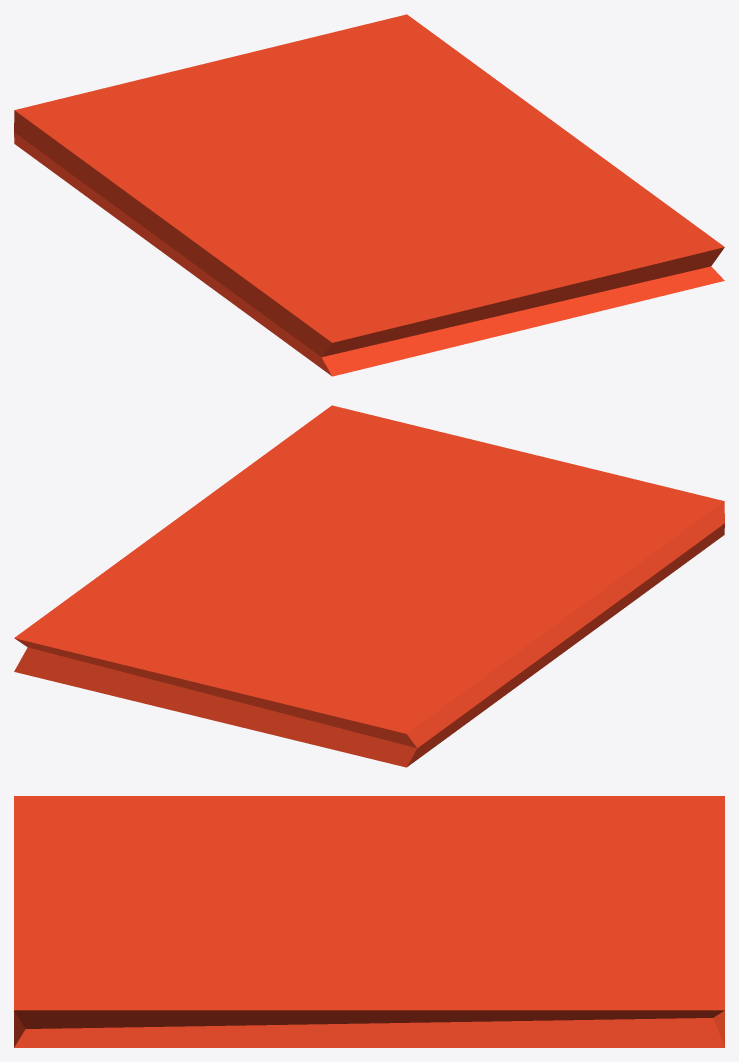
File: SM_Newspaper_Clean_City.fbx
The picture shows the model from 3 angles, top to bottom: view 1: azimuth 30°, elevation 25°; view 2: azimuth 150°, elevation 25°; view 3: azimuth 270°, elevation 25°; orthographic projection. The views are drawn at different scales.
Parts seen in each view (by area): view 1: SM_Newspaper_Clean_City; view 2: SM_Newspaper_Clean_City; view 3: SM_Newspaper_Clean_City.
Boxes of the visible parts, bbox=[...] form: SM_Newspaper_Clean_City: bbox=[14, 14, 724, 376]; SM_Newspaper_Clean_City: bbox=[14, 405, 724, 767]; SM_Newspaper_Clean_City: bbox=[14, 796, 724, 1047].
Size of the model in its own units: 0.2796 by 0.0226 by 0.3867.
